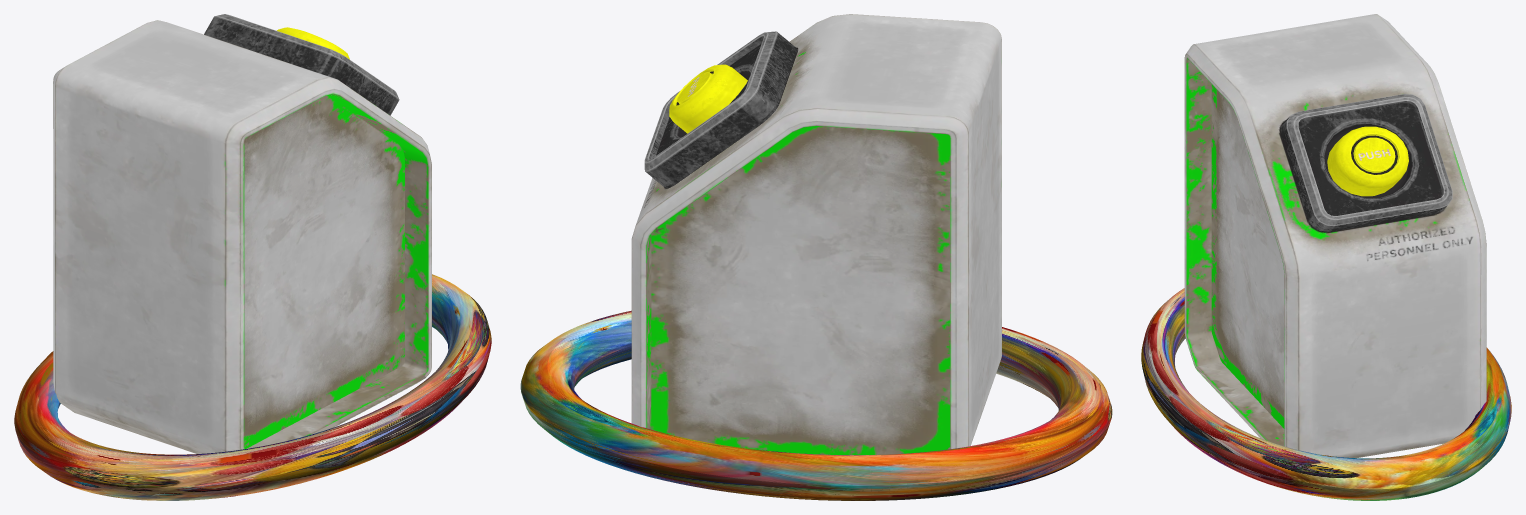
The model's file is button4.glb.
The picture shows the model from 3 angles, left to right: view 1: azimuth 30°, elevation 25°; view 2: azimuth 150°, elevation 25°; view 3: azimuth 270°, elevation 25°; orthographic projection. The views are drawn at different scales.
Visible parts, largest first — view 1: Object_9.359, Torus.019; view 2: Object_9.359, Torus.019; view 3: Object_9.359, Torus.019.
Boxes of the visible parts, x1,y1,x2,y2 form: Object_9.359: (53, 14, 431, 453); Torus.019: (14, 274, 491, 500); Object_9.359: (631, 14, 1001, 454); Torus.019: (520, 310, 1112, 500); Object_9.359: (1184, 14, 1486, 458); Torus.019: (1141, 288, 1511, 500).
Size of the model in its own units: 2.4 by 1.68 by 1.76.
Materials: 2 (2 with a texture image).
